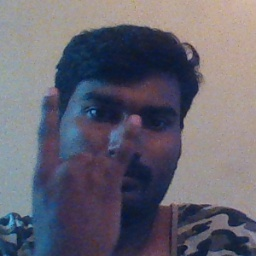V: (28, 85, 145, 256)
